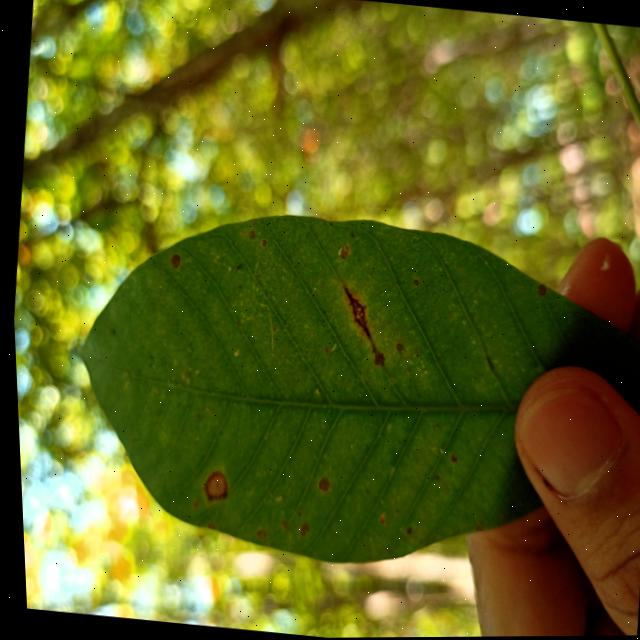Colletotrichum: (408, 279, 415, 286)
Corynespora: (334, 286, 373, 340)
